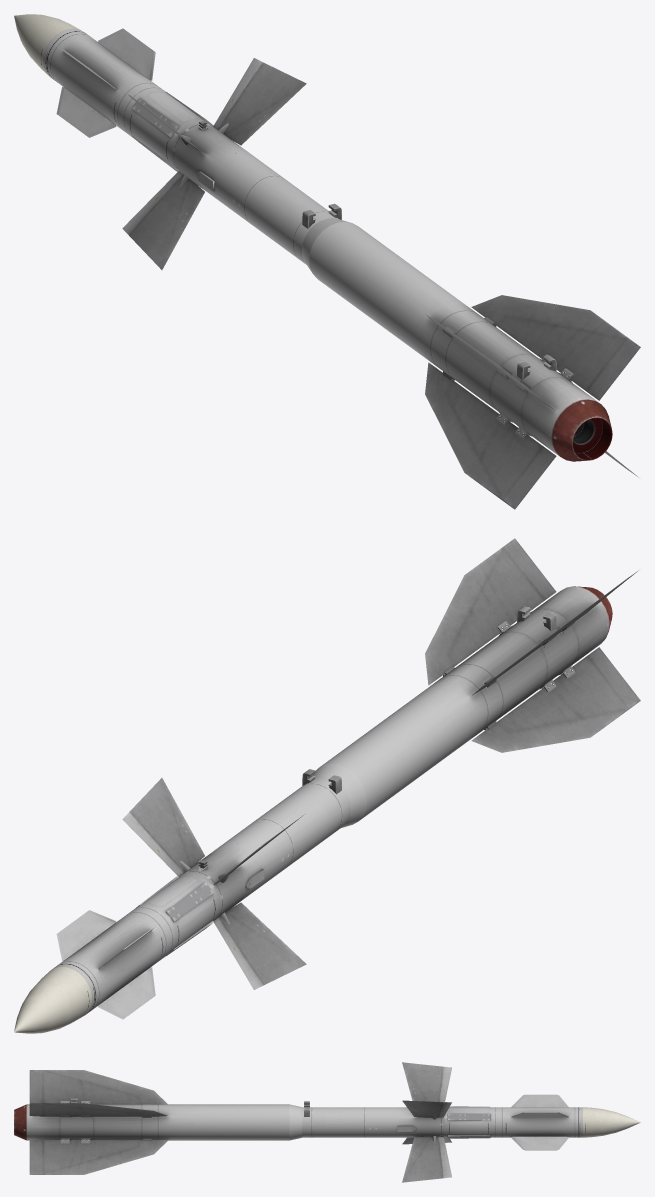
The model's file is aam_r27.glb.
3 renders of one model, top to bottom at view 1: azimuth 30°, elevation 25°; view 2: azimuth 150°, elevation 25°; view 3: azimuth 270°, elevation 25°, orthographic. The views are drawn at different scales.
Visible parts, largest first — view 1: body|w_saam_r0-Mat; view 2: body|w_saam_r0-Mat; view 3: body|w_saam_r0-Mat.
Boxes of the visible parts, x1=… form: body|w_saam_r0-Mat: x1=14, y1=14, x2=640, y2=509; body|w_saam_r0-Mat: x1=14, y1=538, x2=640, y2=1033; body|w_saam_r0-Mat: x1=14, y1=1062, x2=640, y2=1182.
Bounding box in the file's own units: 0.6103 × 0.6103 × 4.22.
Materials: 1 (1 with a texture image).
